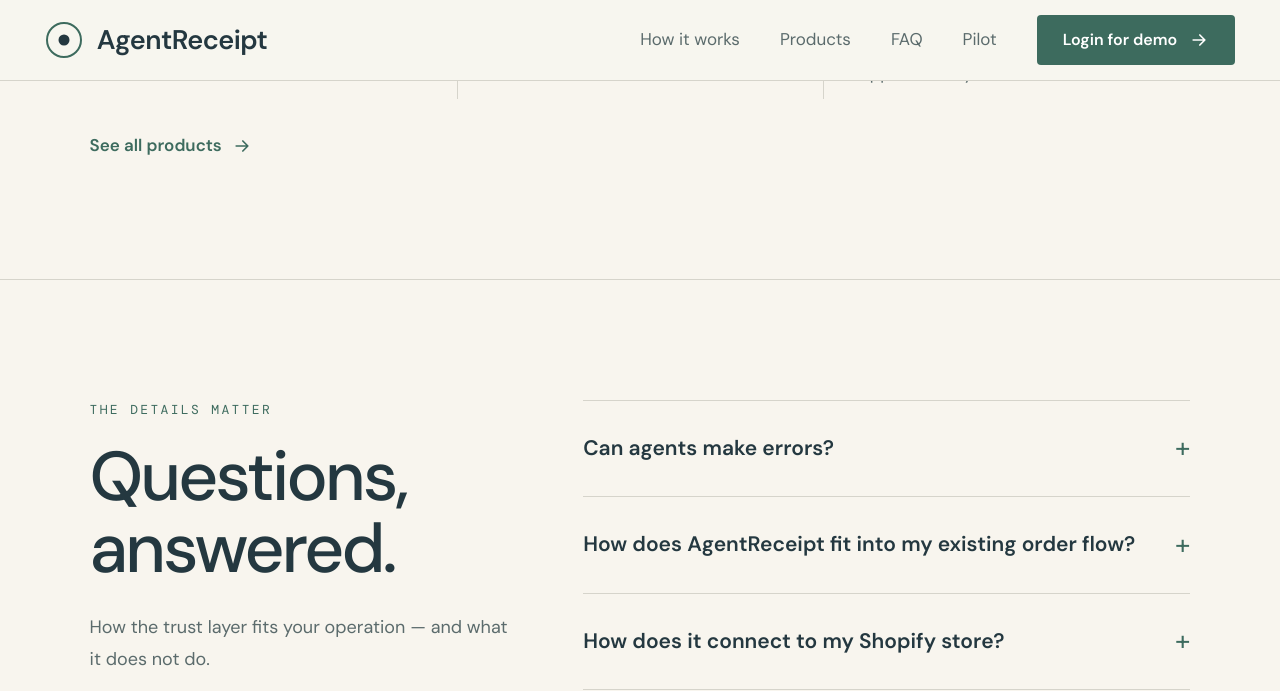
it: Home page › FAQ: all 7 questions are visible with answers collapsed; opening one shows its answer
This screenshot has width=1280, height=691.
(page scrolled)
Click the button "Can agents make errors? +": (709,448) [583,401,1190,496]
(page scrolled)
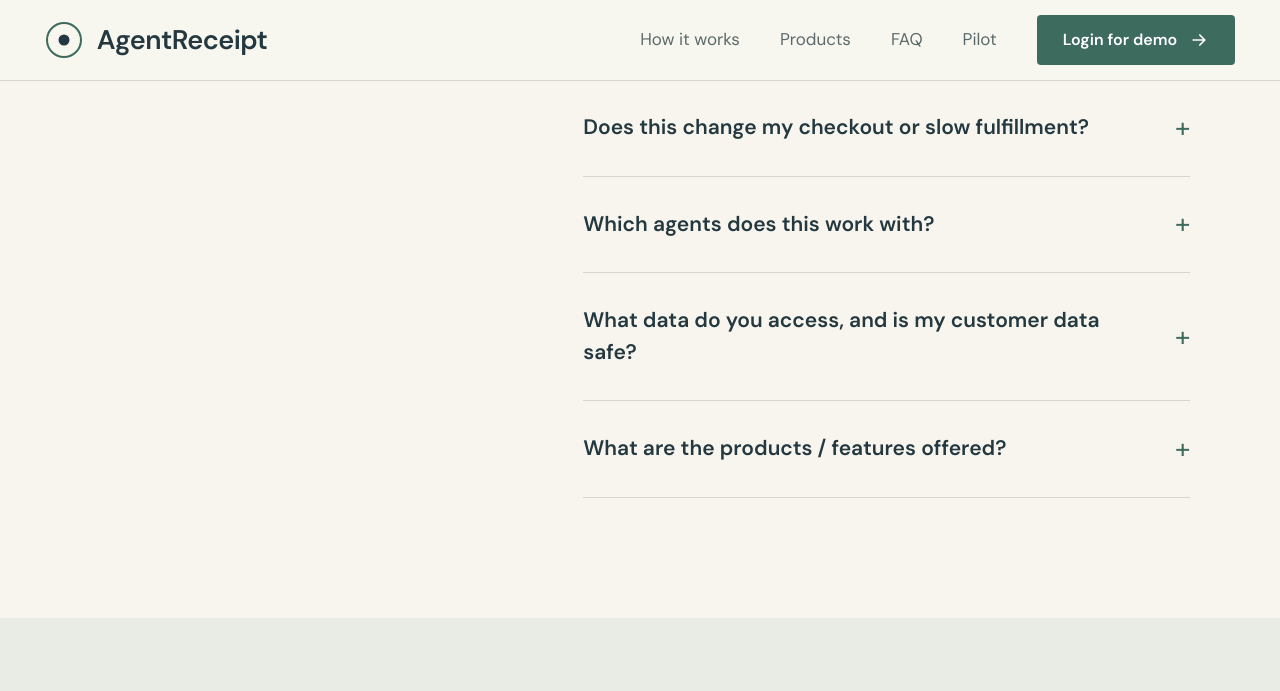
Click the button "What are the products / features offered?": (887,449) [583,401,1190,497]
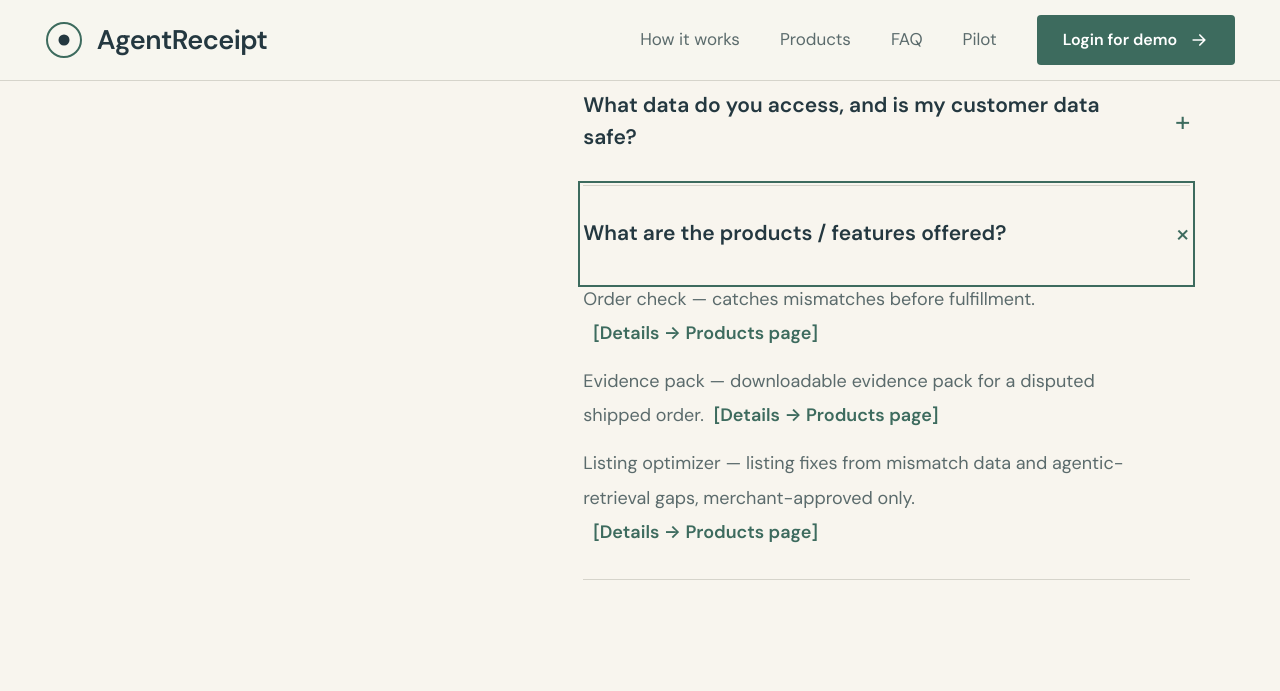
Result: the number of links "[Details → Products page]" is 3 at [593,316,818,350]; [714,398,938,432]; [593,515,818,549]
